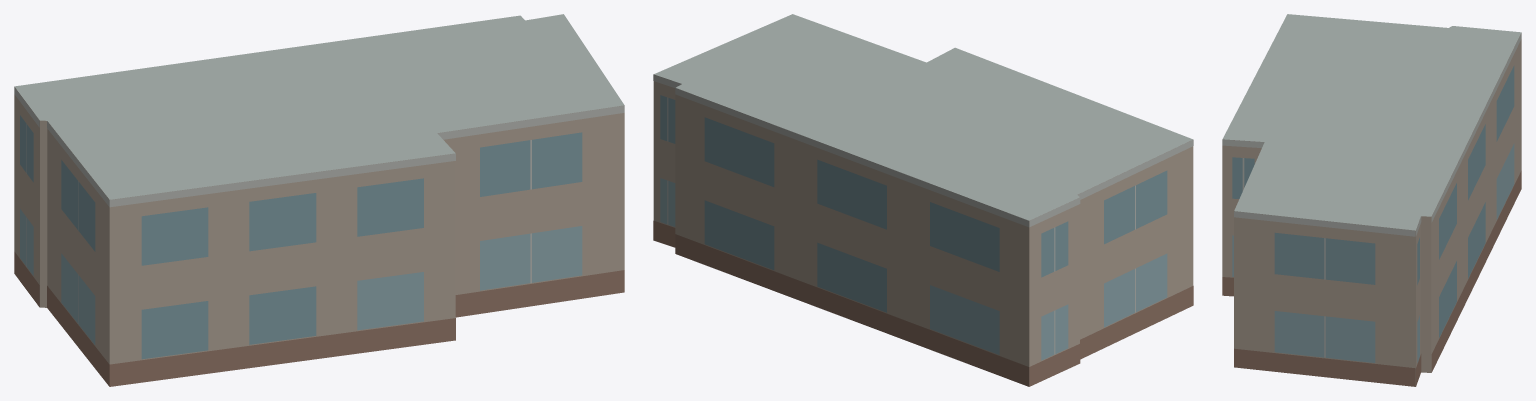
File: survey-upis-32985074.glb
The picture shows the model from 3 angles, left to right: view 1: azimuth 30°, elevation 25°; view 2: azimuth 150°, elevation 25°; view 3: azimuth 270°, elevation 25°; orthographic projection. The views are drawn at different scales.
Parts seen in each view (by area): view 1: survey-upis-32985074.tmp; view 2: survey-upis-32985074.tmp; view 3: survey-upis-32985074.tmp.
Part boxes in pixels (x1=…): survey-upis-32985074.tmp: x1=14, y1=14, x2=624, y2=386; survey-upis-32985074.tmp: x1=653, y1=14, x2=1193, y2=386; survey-upis-32985074.tmp: x1=1222, y1=14, x2=1521, y2=386.
Bounding box in the file's own units: 18.13 × 6.1 × 10.59.
